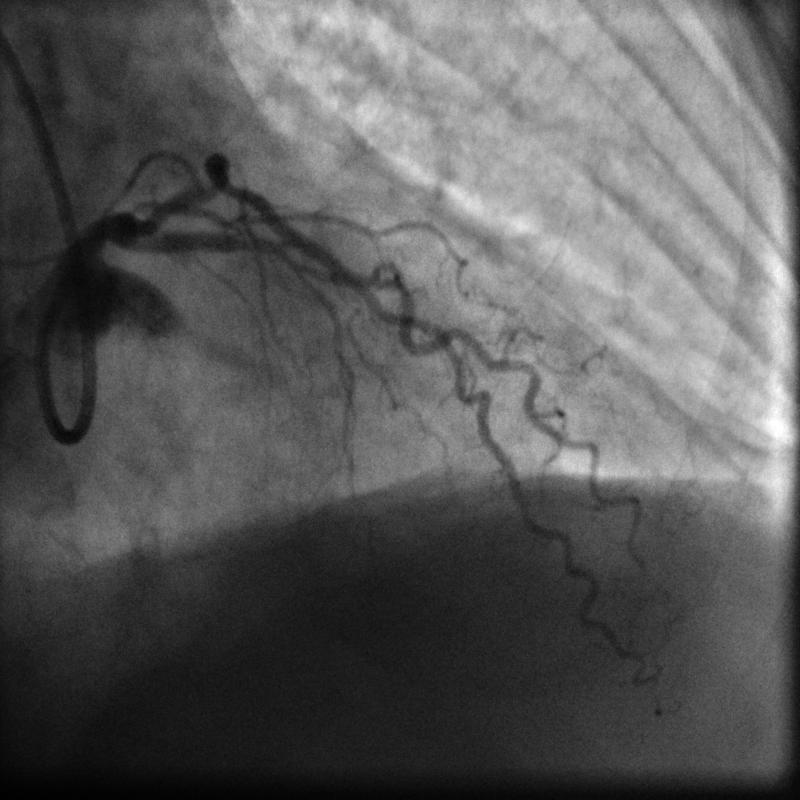Stenosis: (255, 231, 315, 278)
